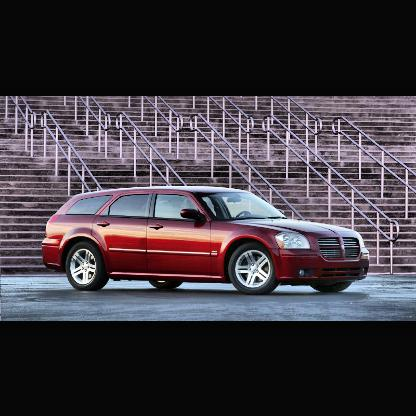Dodge Magnum Wagon 2008: (42, 185, 371, 296)
